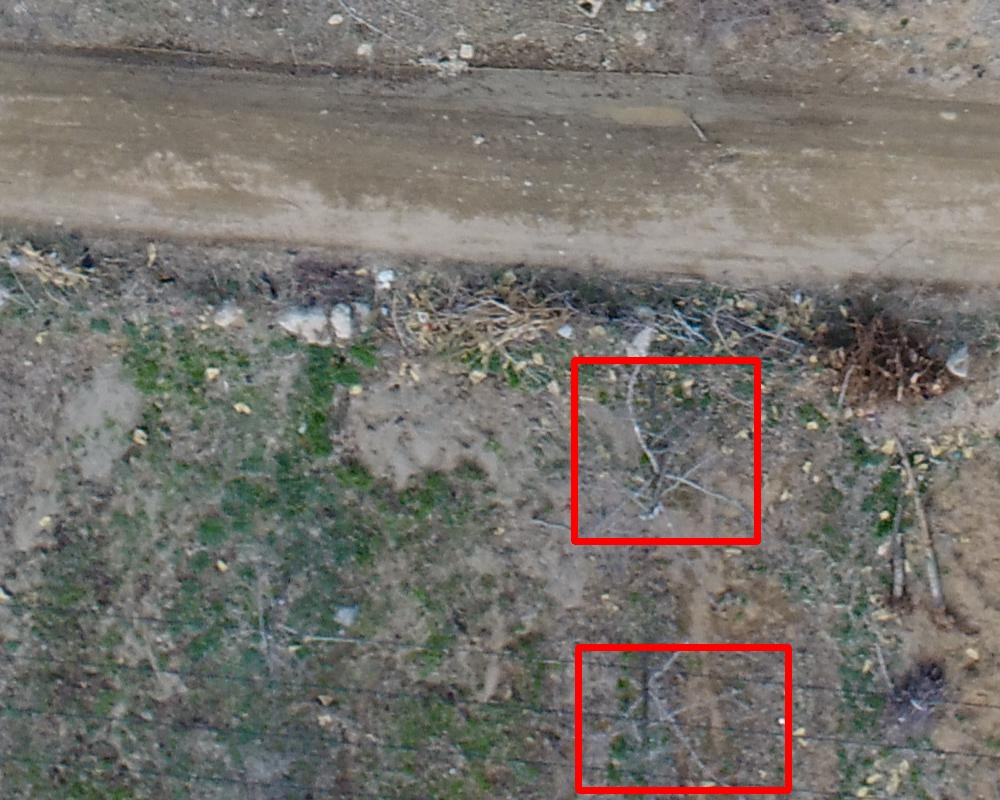apple: (574, 360, 757, 541), (578, 647, 788, 790)
